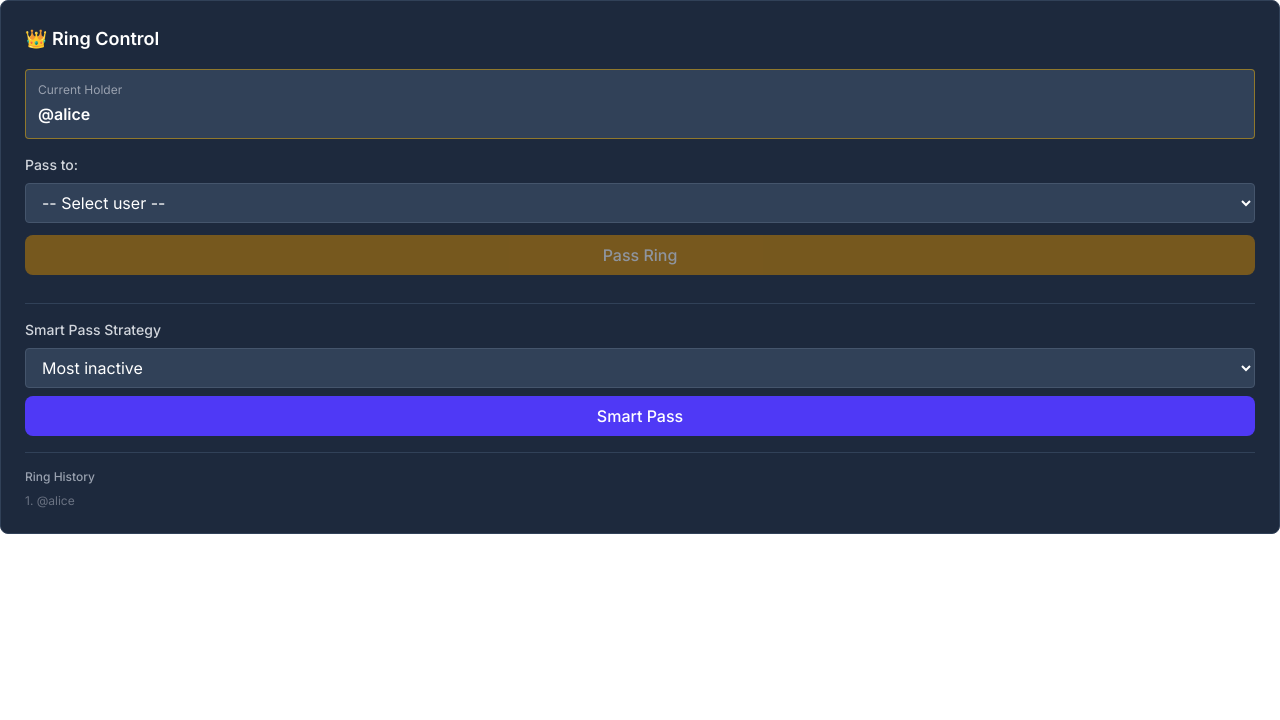
SmartRingPass › API Integration › shows error on 409 no-collaborators error
What coordinates should you click on to do the following:
click the button "Smart Pass"
I would click on:
 (640, 416)
Its box is [25, 396, 1255, 436].
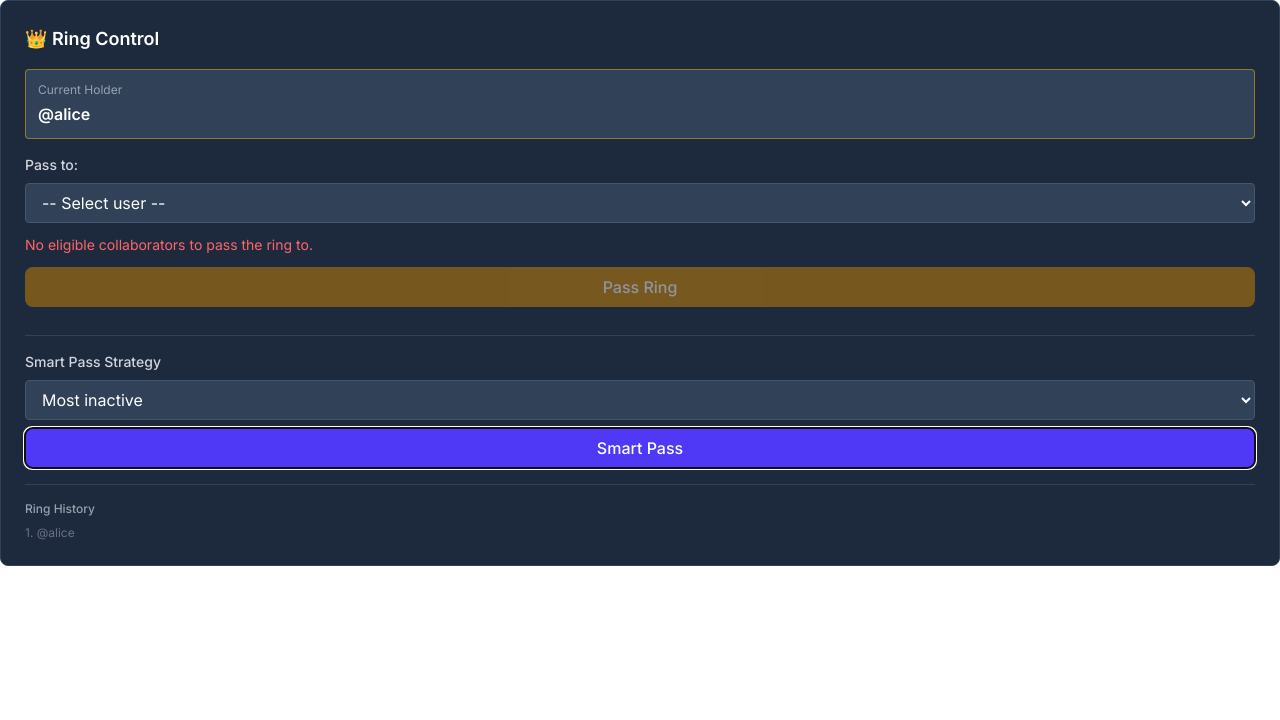
Expected: the text "No eligible collaborators to pass the ring to." is shown, [25, 236, 313, 253]
